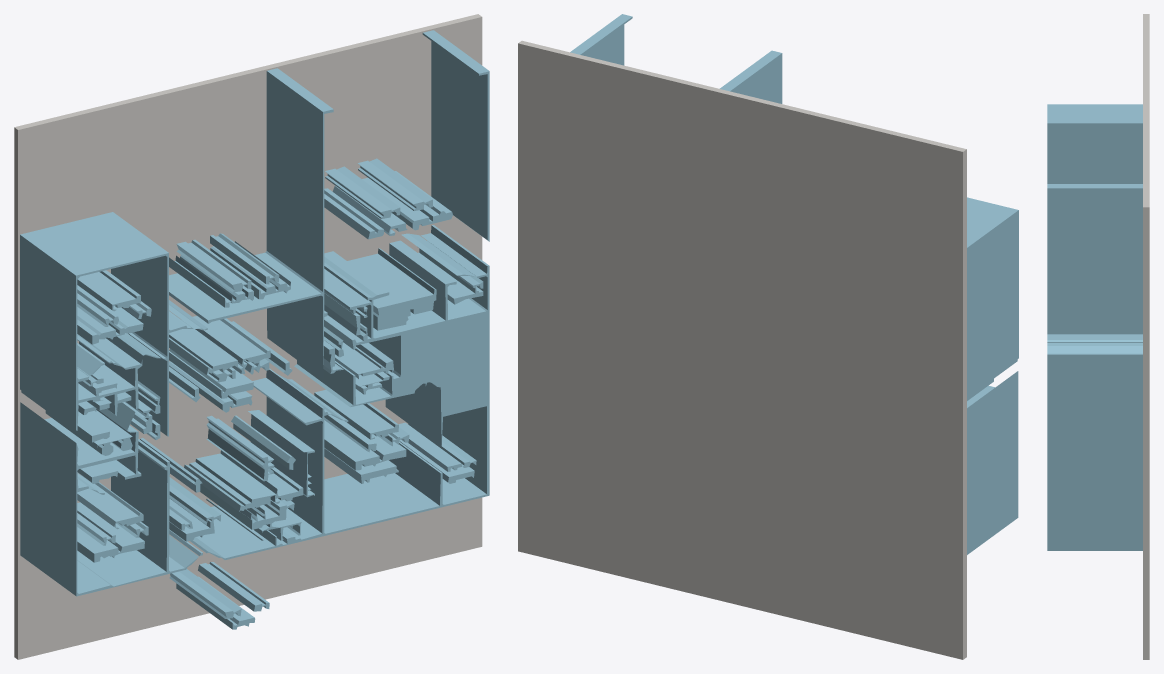
3 views of the same model, side by side, from view 1: azimuth 30°, elevation 25°; view 2: azimuth 150°, elevation 25°; view 3: azimuth 270°, elevation 25° (orthographic). The views are drawn at different scales.
Parts seen in each view (by area): view 1: world; view 2: world; view 3: world.
Part boxes in pixels (x1,y1,x2,y2): world: [14, 14, 489, 659]; world: [518, 14, 1018, 659]; world: [1047, 14, 1149, 659].
Size of the model in its own units: 10.23 by 11.16 by 2.29.
